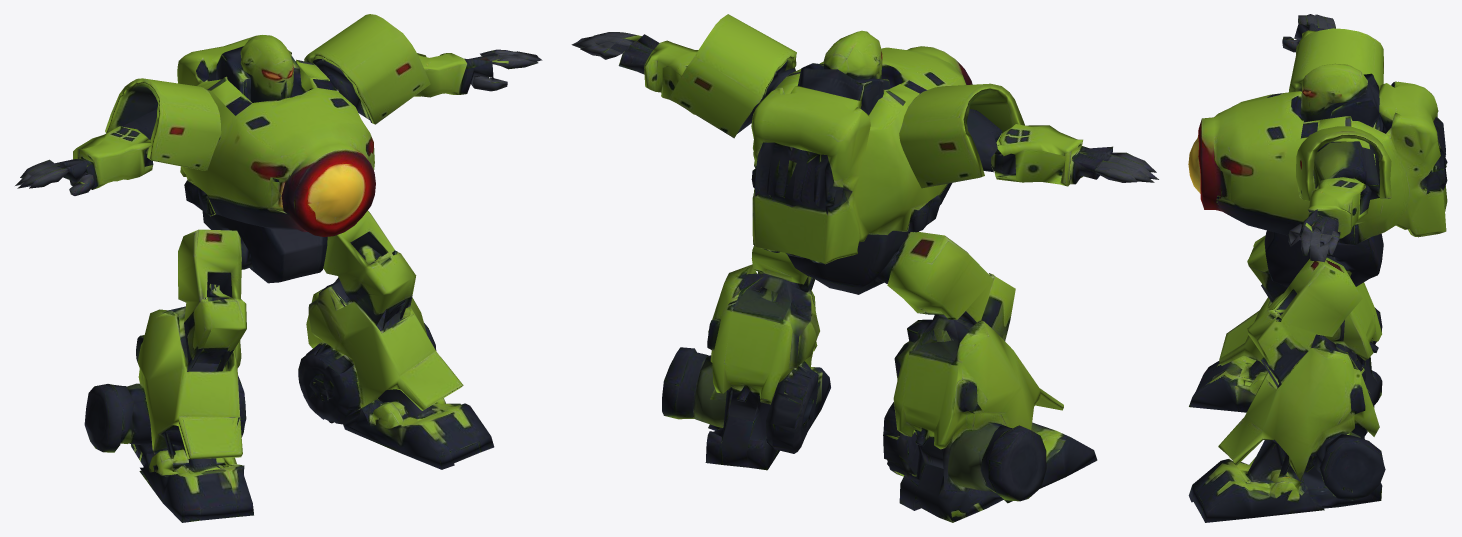
The model's file is boss_mech.glb.
3 renders of one model, left to right at view 1: azimuth 30°, elevation 25°; view 2: azimuth 150°, elevation 25°; view 3: azimuth 270°, elevation 25°, orthographic. The views are drawn at different scales.
Size of the model in its own units: 0.9562 by 0.6953 by 0.4224.
1 material, 1 textured.
